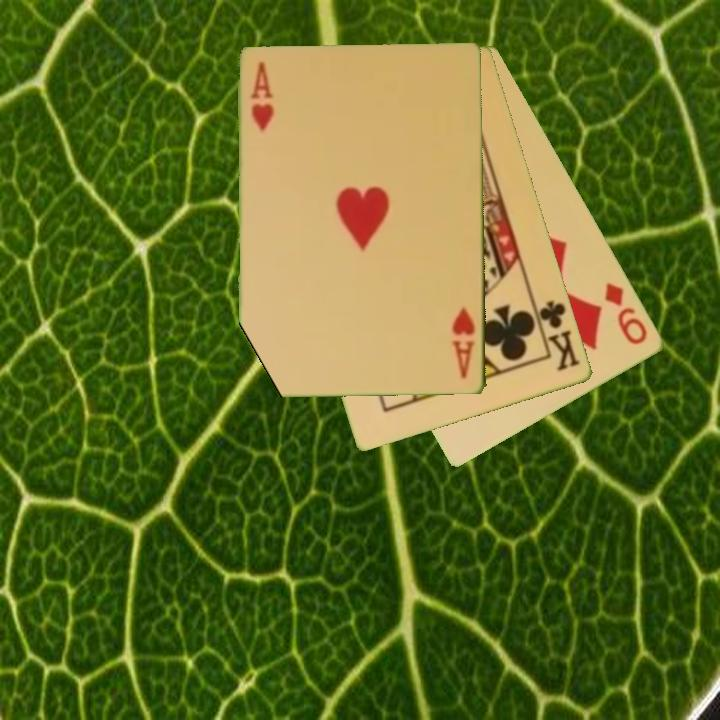9d: (601, 279, 651, 348)
Ah: (449, 304, 479, 382), (247, 58, 273, 134)
Kc: (531, 297, 584, 374)
